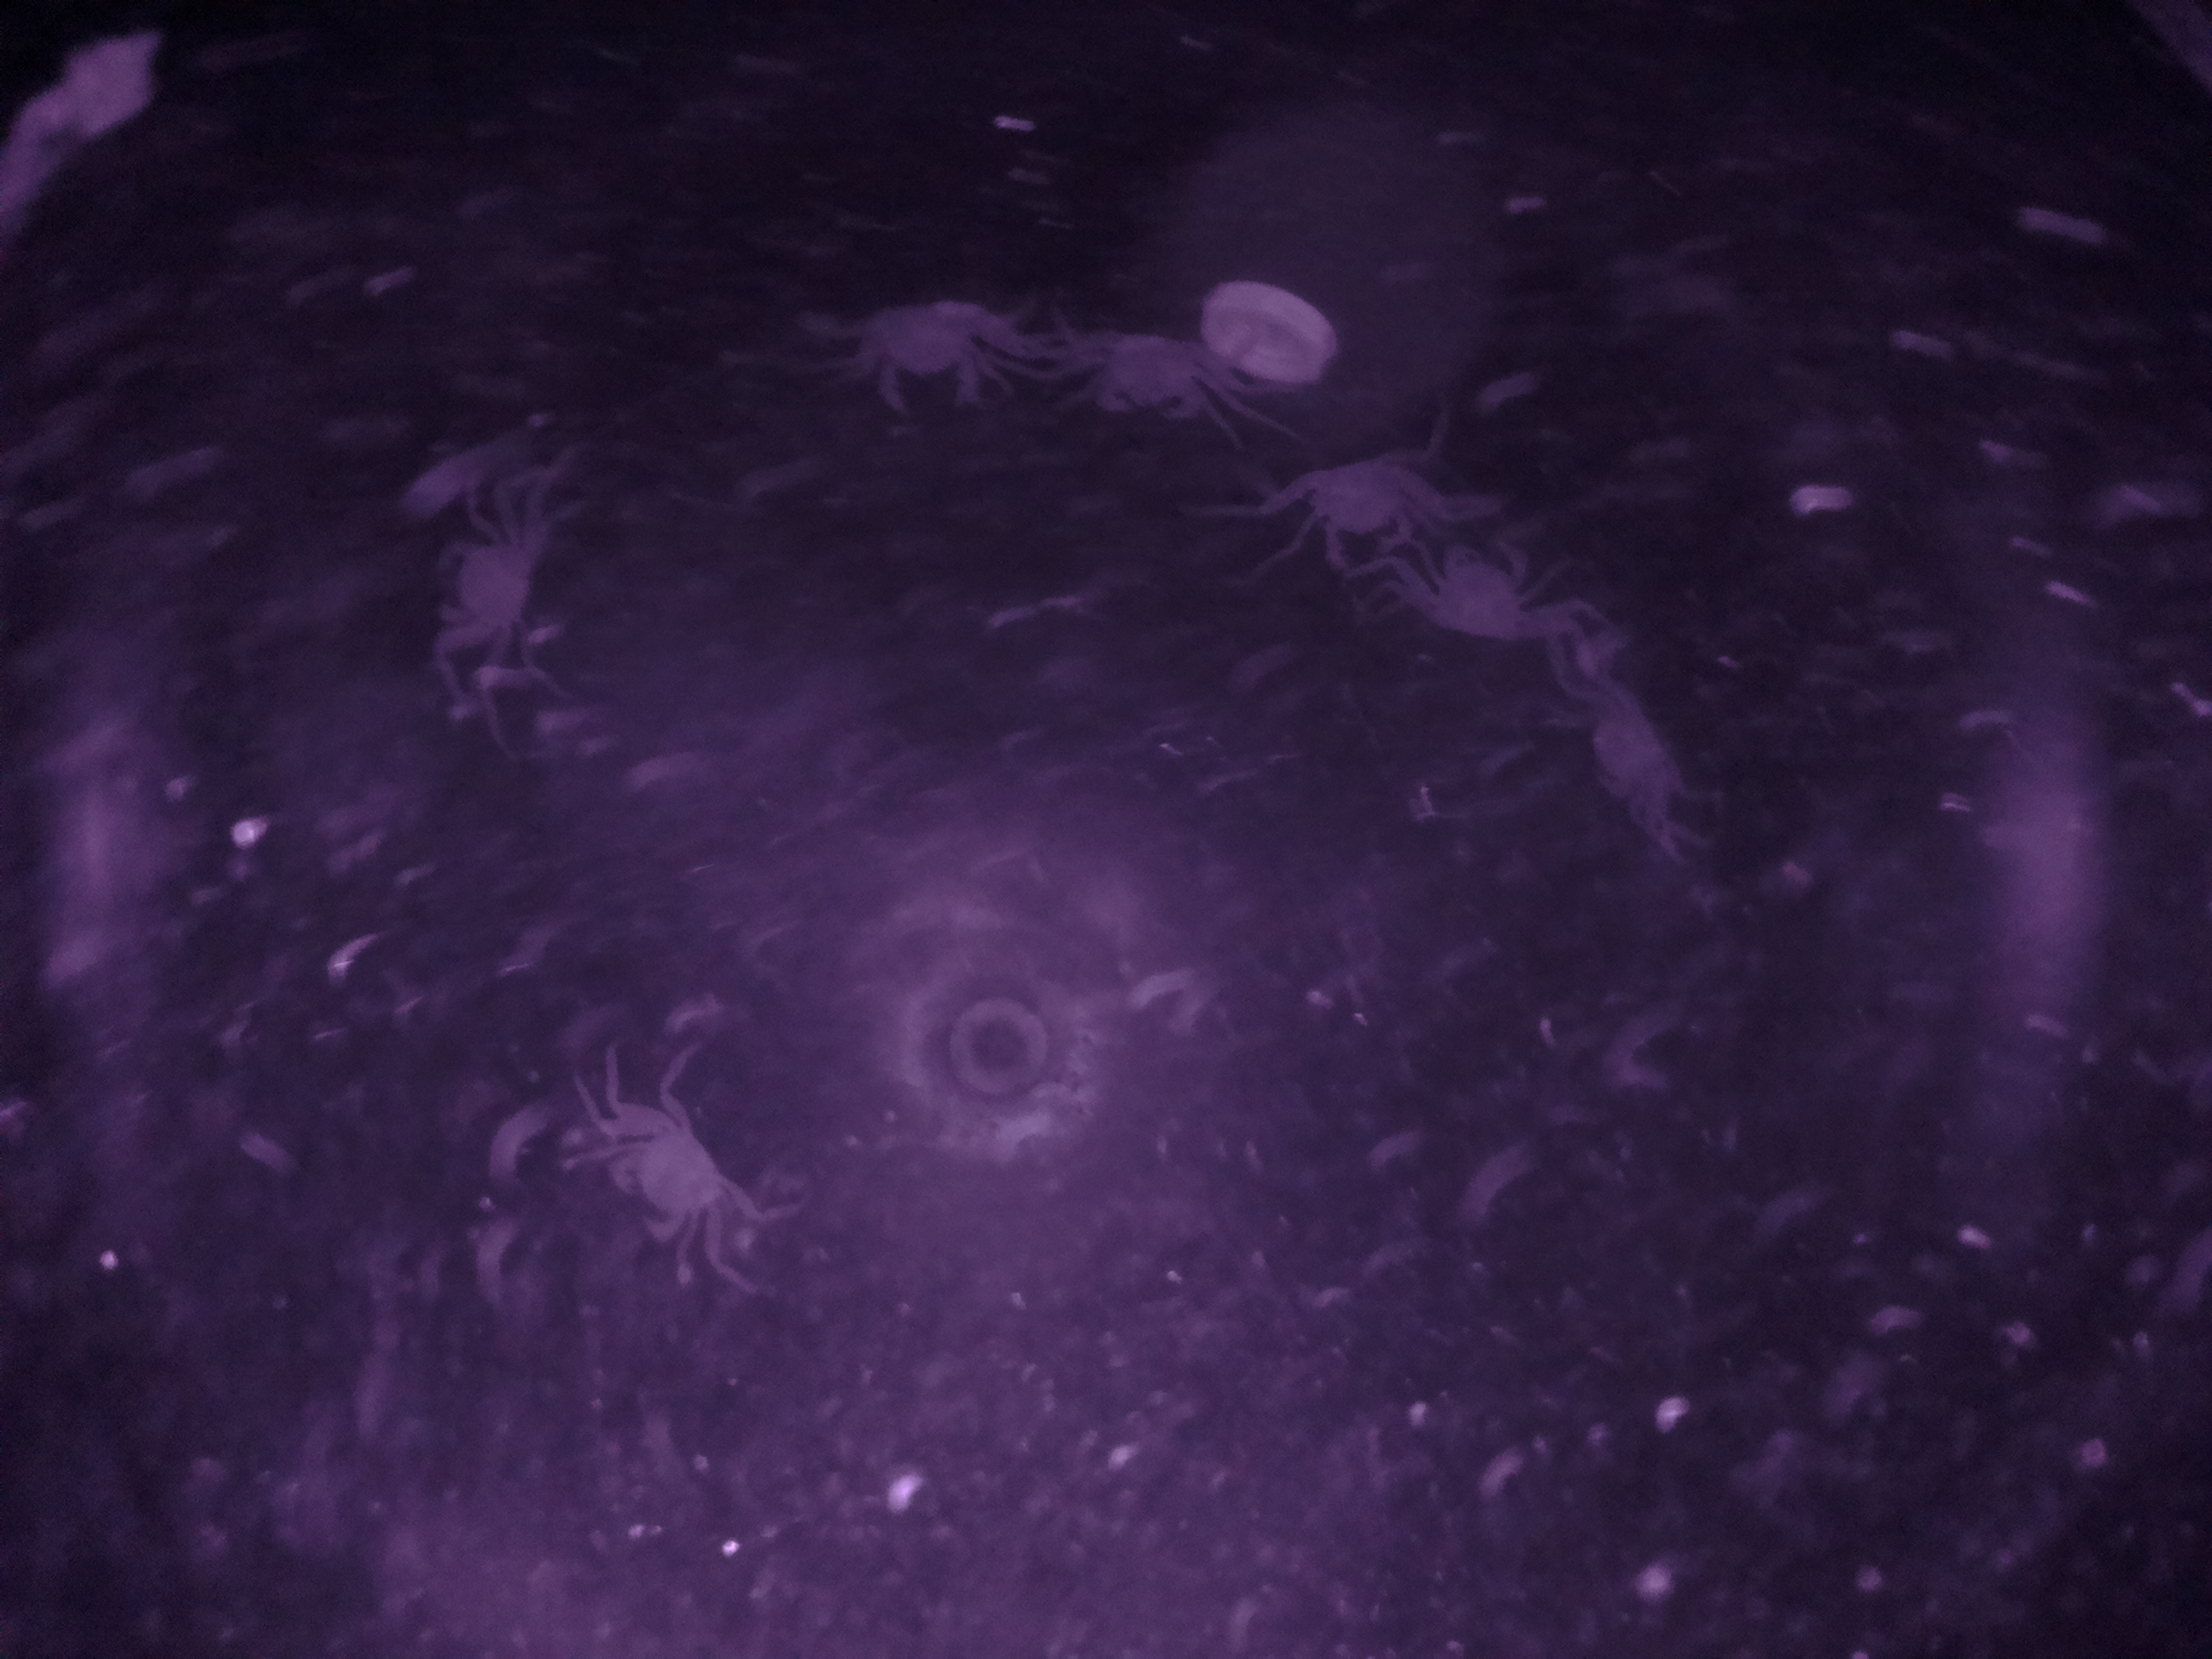Crab: (566, 1040, 805, 1298), (413, 439, 583, 732), (1244, 408, 1472, 586)
